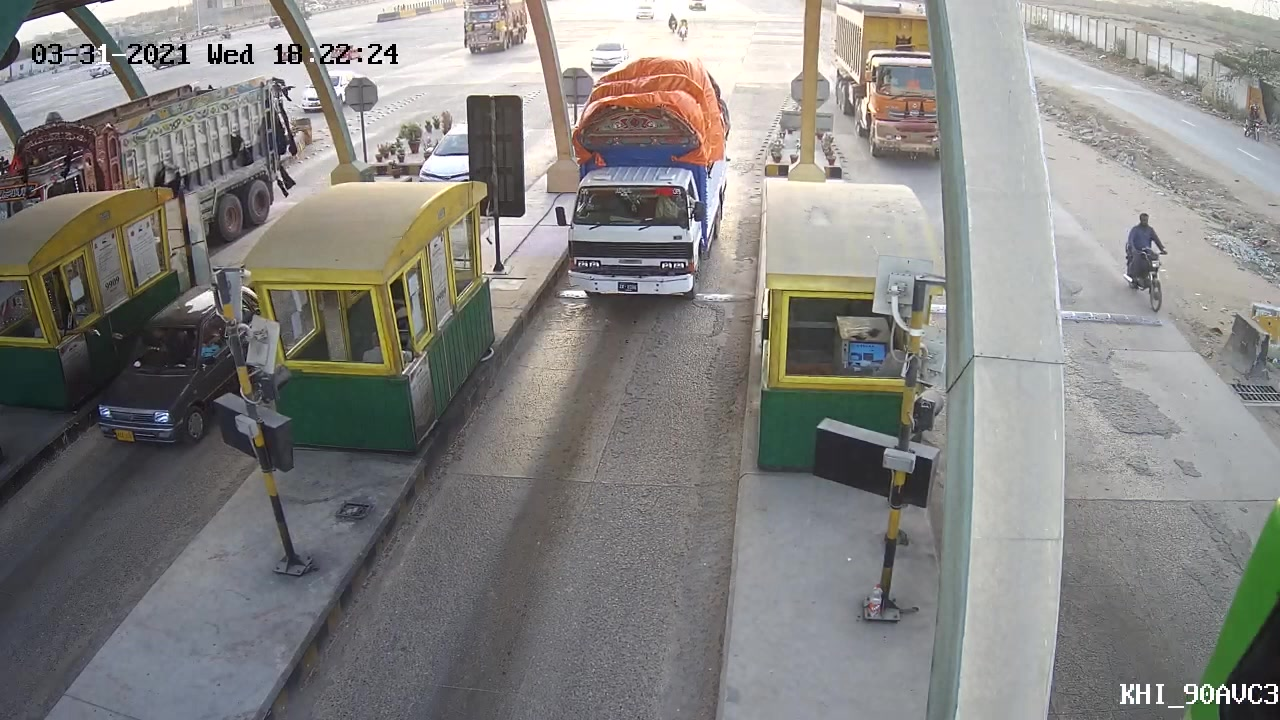F5: (555, 83, 735, 312)
